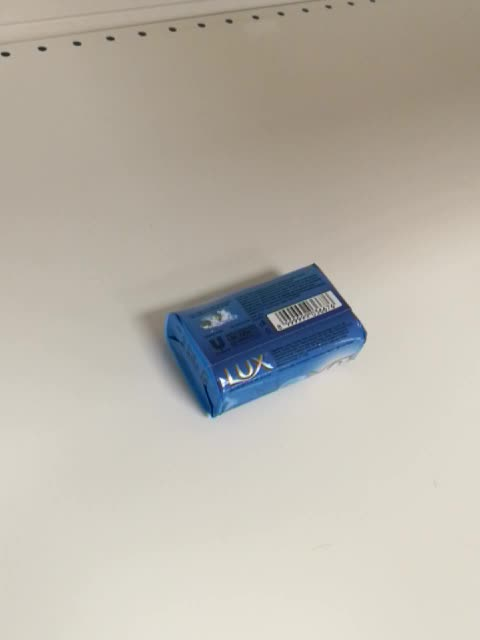soap: (163, 261, 369, 420)
